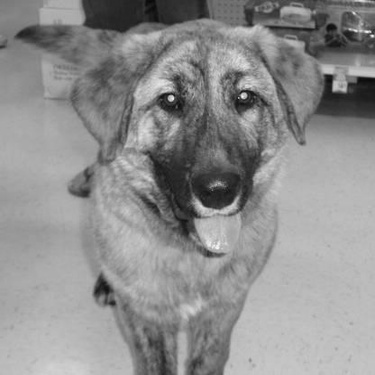dog: (15, 17, 333, 371)
